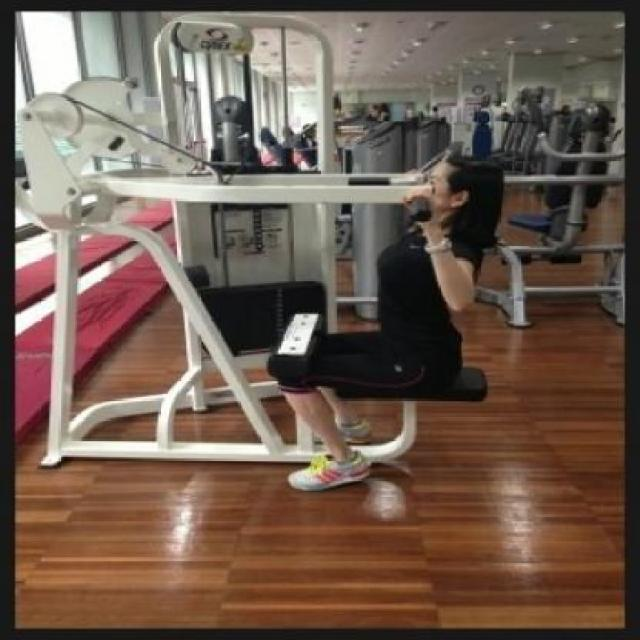Lat Pull Down: (12, 0, 537, 549)
